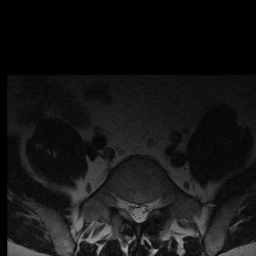CCS_normal: (134, 195, 142, 228)
LFS_normal: (150, 190, 158, 215)
LLS_normal: (142, 195, 150, 225)
RFS_normal: (119, 192, 127, 217)
RLS_normal: (127, 195, 134, 223)
